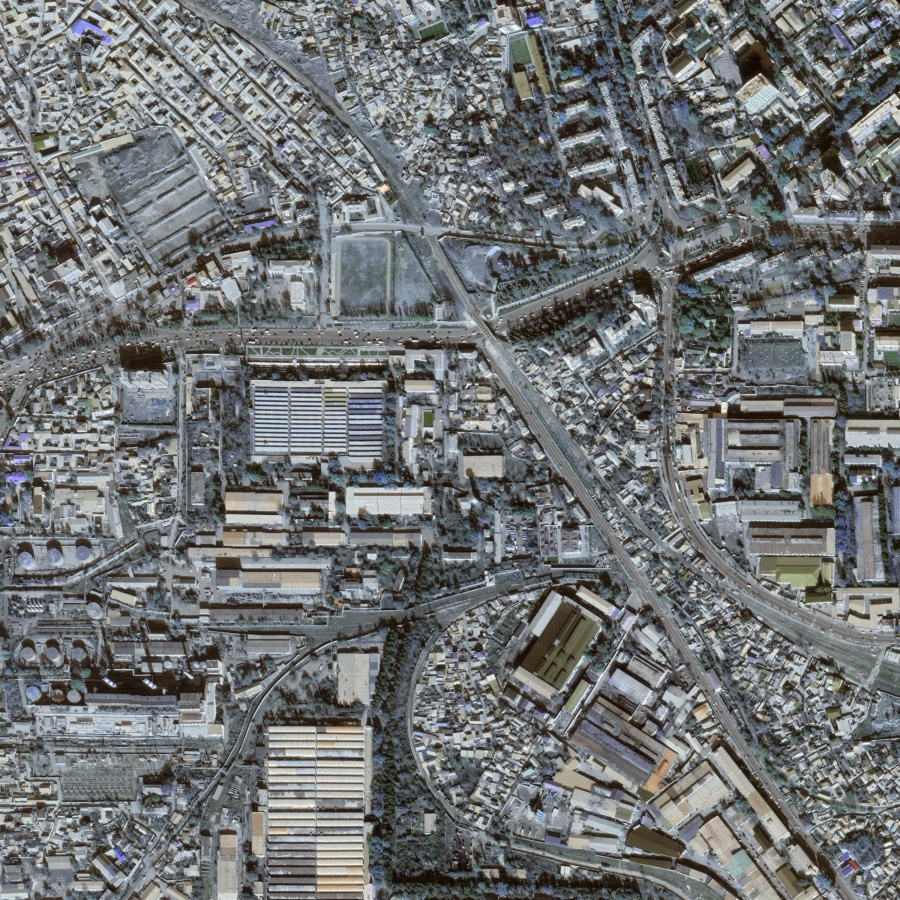PowerPlant: (8, 592, 229, 803)
